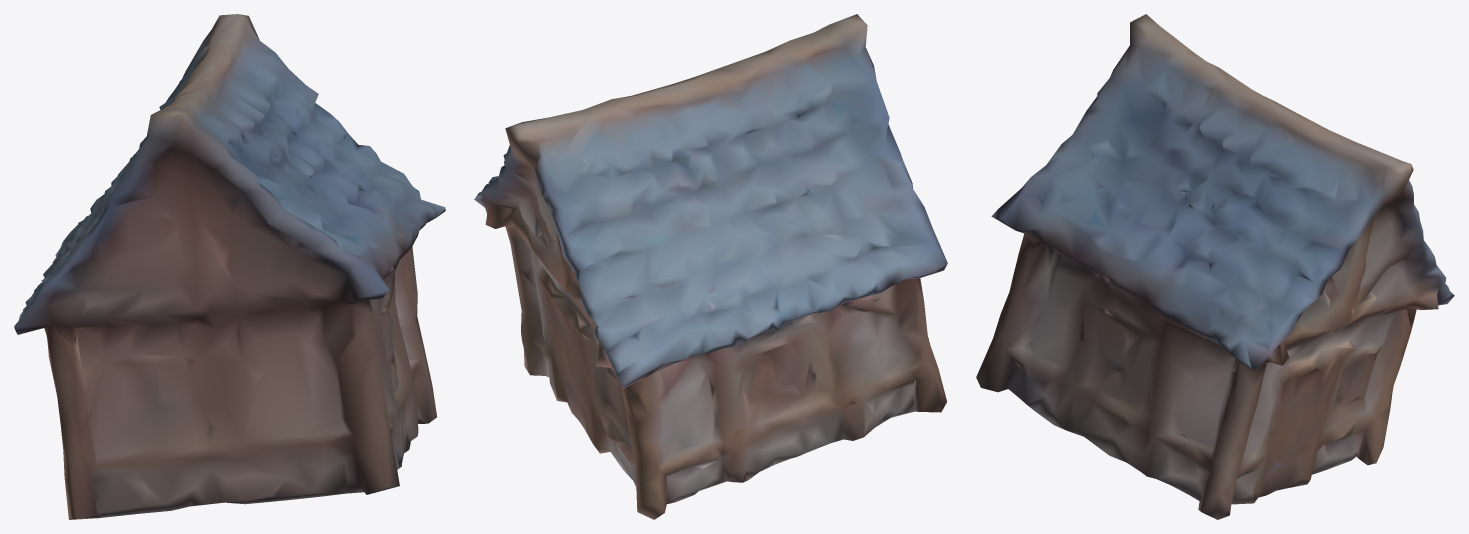
Rendered from casa_camponesa.glb.
3 renders of one model, left to right at view 1: azimuth 30°, elevation 25°; view 2: azimuth 150°, elevation 25°; view 3: azimuth 270°, elevation 25°, orthographic. The views are drawn at different scales.
Bounding box in the file's own units: 1.07 × 0.9918 × 1.07.
